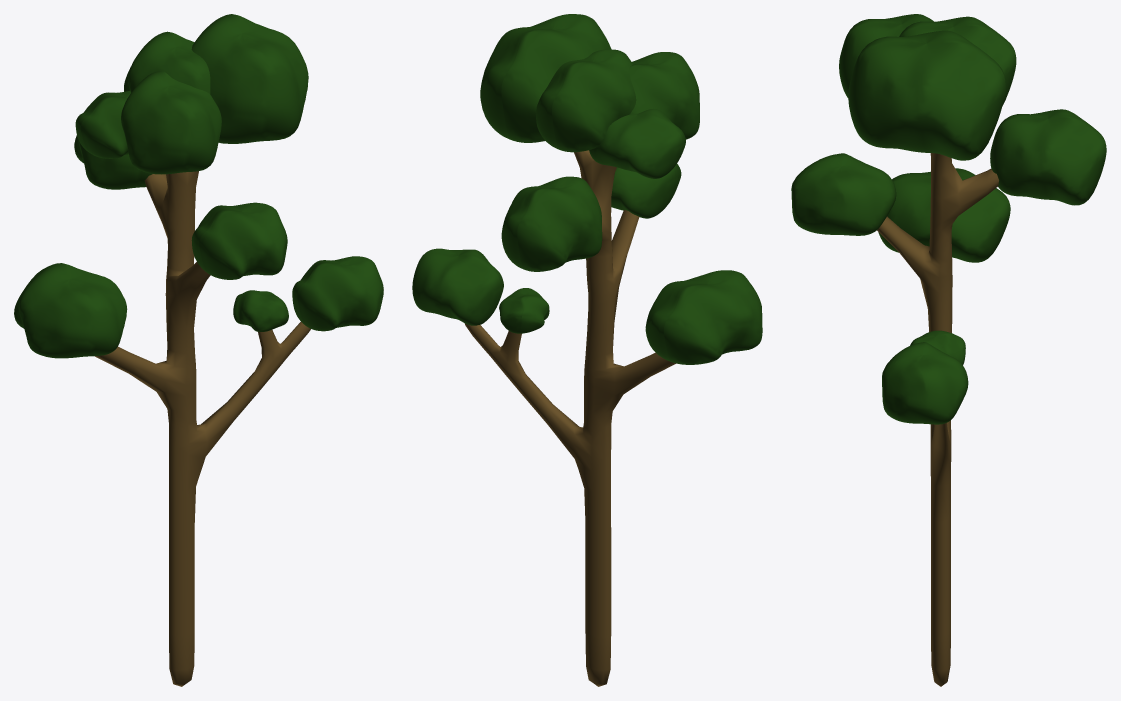
Rendered from tree2.gltf.
3 views of the same model, side by side, from view 1: azimuth 30°, elevation 25°; view 2: azimuth 150°, elevation 25°; view 3: azimuth 270°, elevation 25° (orthographic). The views are drawn at different scales.
Visible parts, largest first — view 1: Sphere.003; view 2: Sphere.003; view 3: Sphere.003.
Part boxes in pixels (x1=…): Sphere.003: x1=14, y1=14, x2=383, y2=686; Sphere.003: x1=412, y1=14, x2=762, y2=686; Sphere.003: x1=791, y1=14, x2=1106, y2=686.
Size of the model in its own units: 7.37 by 13.13 by 5.54.
